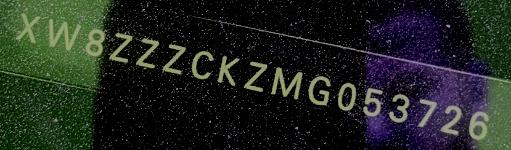letter: (45, 16, 83, 51), (271, 66, 304, 98), (241, 61, 270, 93), (160, 42, 189, 74), (385, 90, 411, 123), (412, 95, 439, 126), (14, 12, 41, 43), (134, 37, 161, 68), (190, 48, 216, 80), (467, 107, 492, 140), (108, 31, 133, 64), (306, 74, 333, 104), (335, 78, 359, 111), (360, 85, 384, 118), (439, 103, 464, 134), (217, 54, 241, 86), (84, 27, 108, 56)
